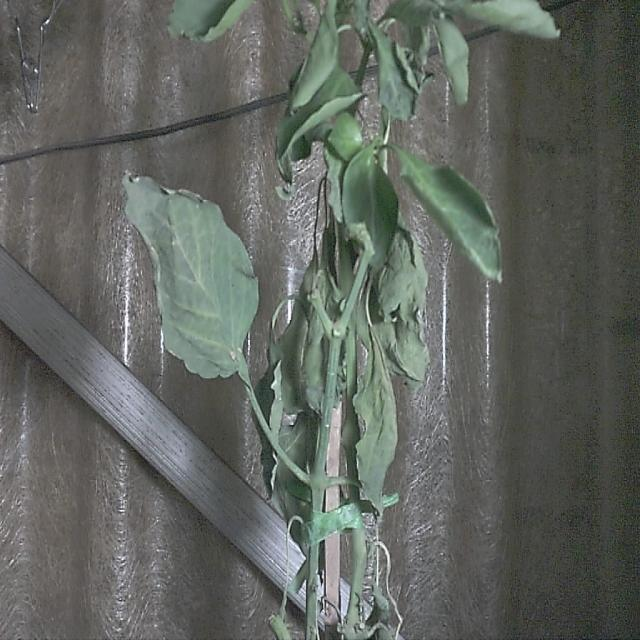Leaf: (122, 169, 260, 381)
